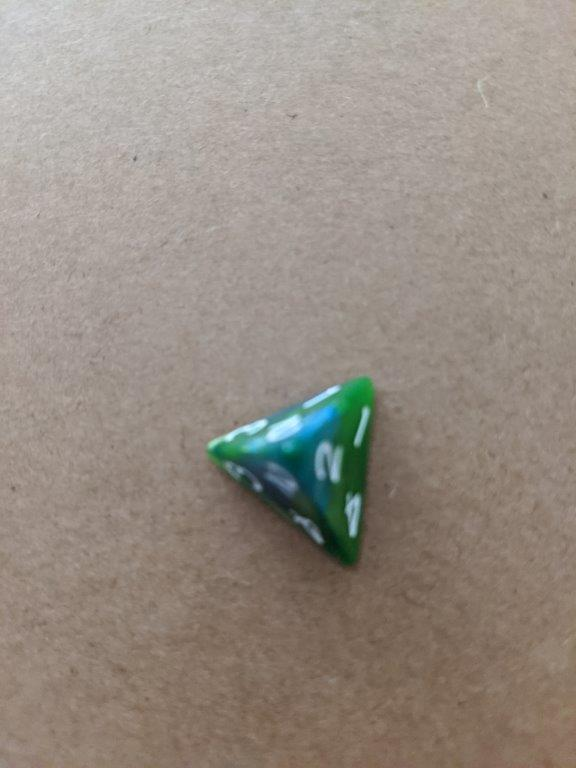d4-2: (208, 369, 379, 573)
